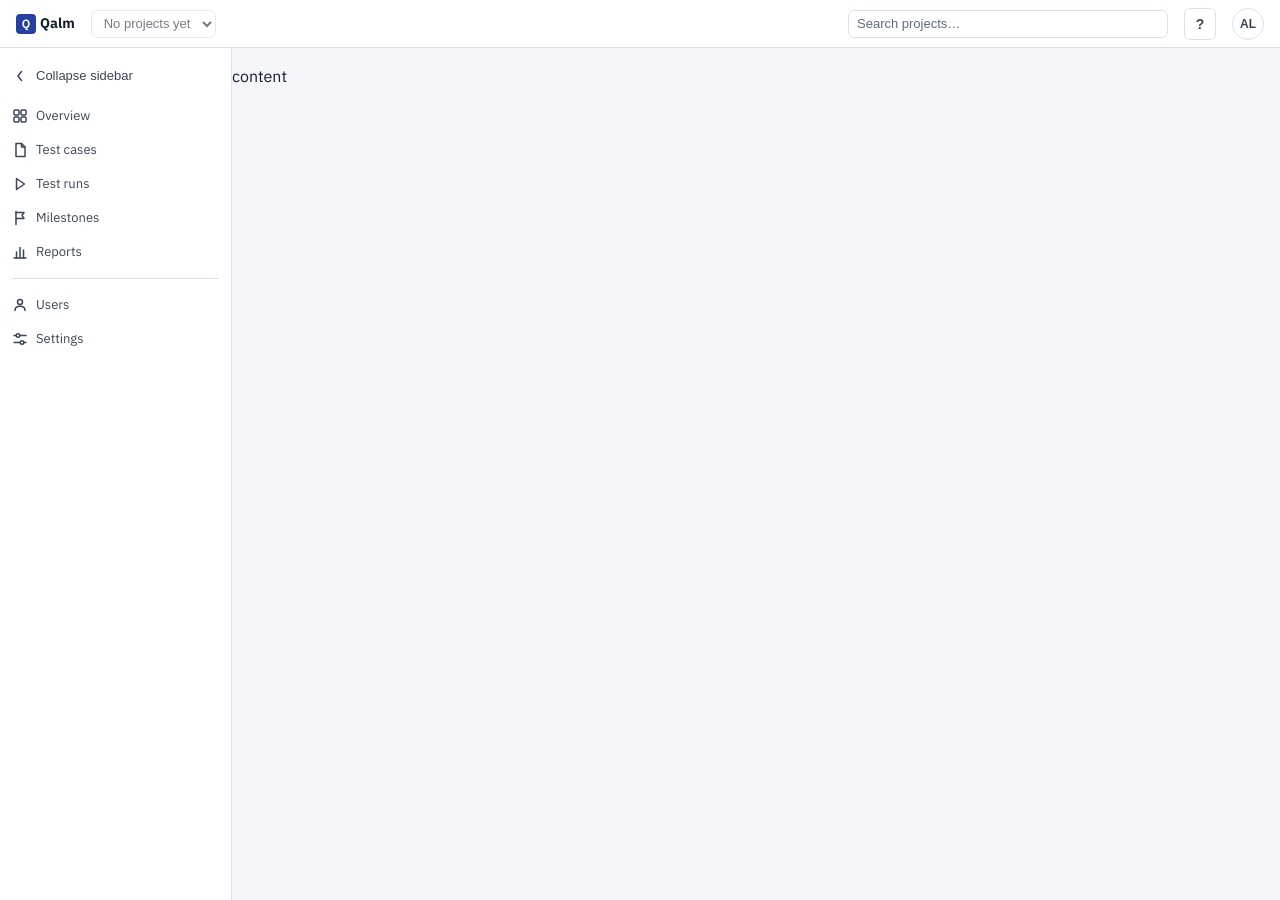
Test: role gating › shell avatar menu hides the temp-password hint once the password is changed
The width and height of the screenshot is (1280, 900).
Click the button with aria-label "Account menu for Ada Lovelace" at (1248,24), box [1232,8,1264,40]
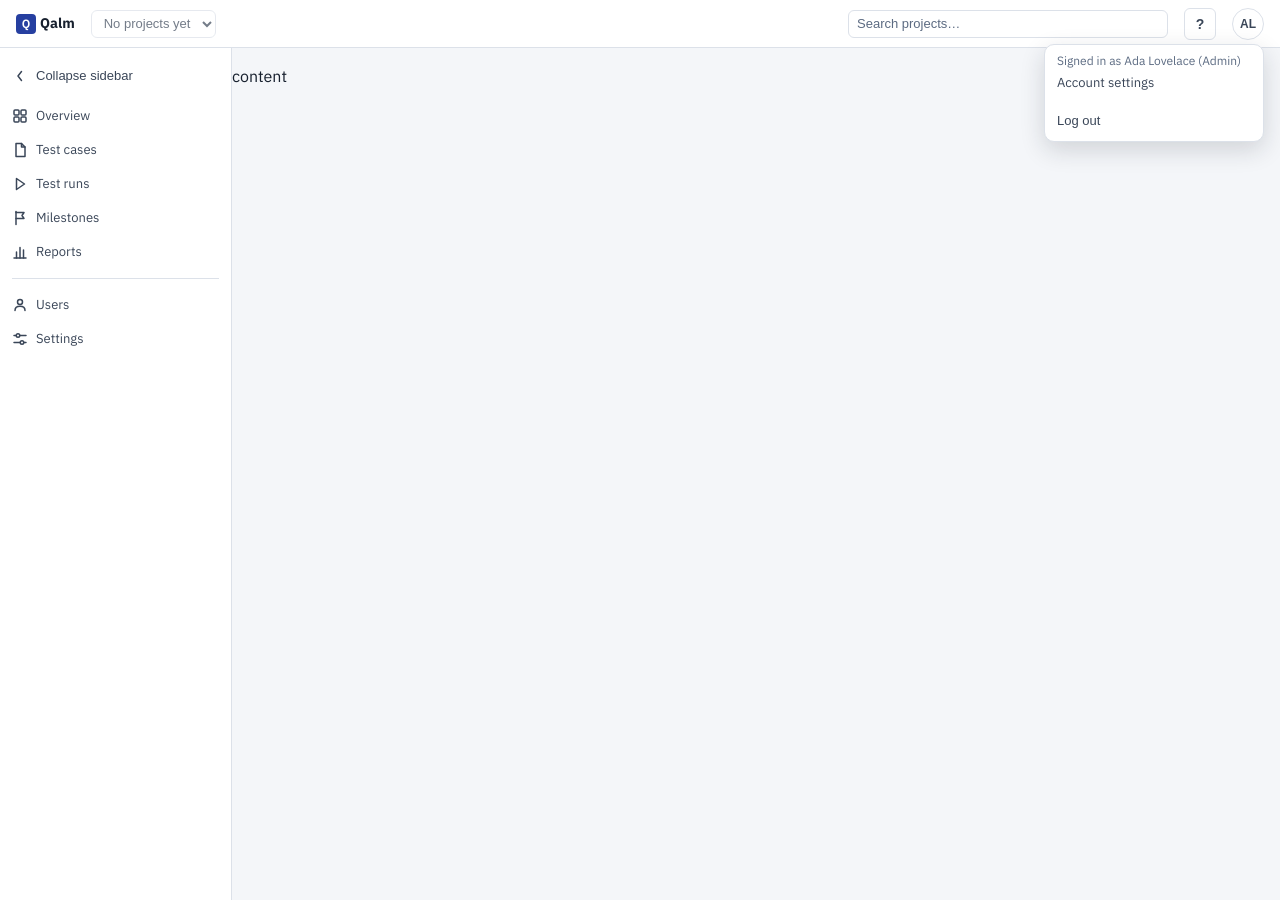
Expected: the link "Account settings" is shown, [1057,74,1154,90]
